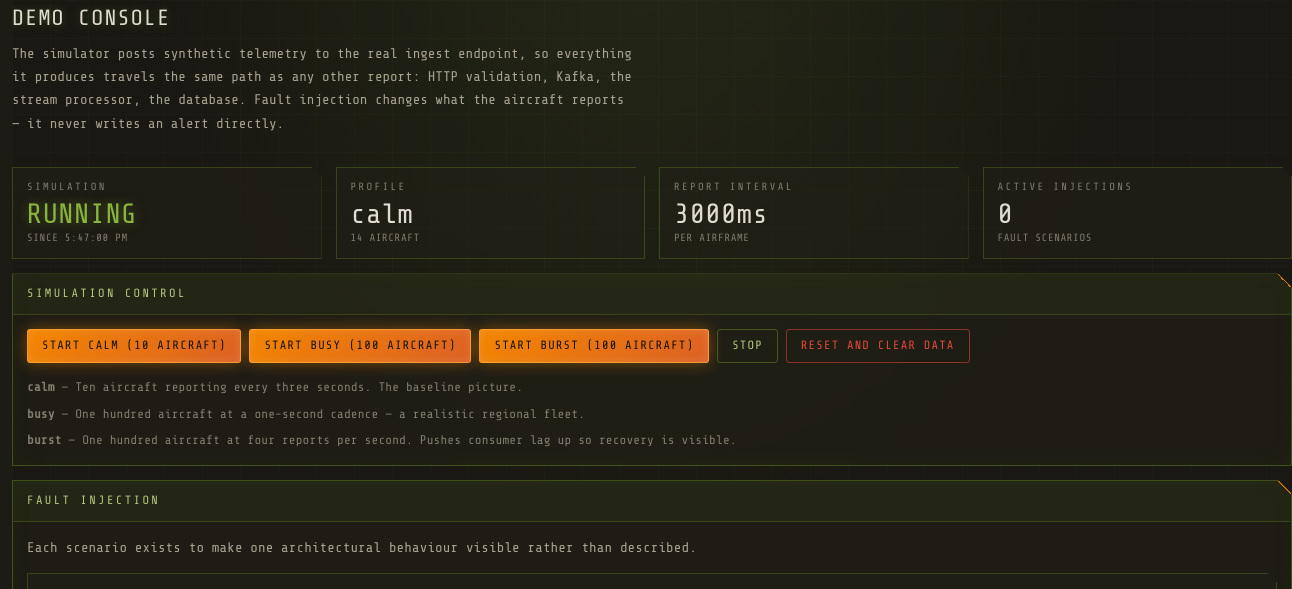
with a live API › surfaces a failure instead of reporting success
The width and height of the screenshot is (1292, 589).
Click the button "Stop" at [748, 346], box [717,329,778,363]
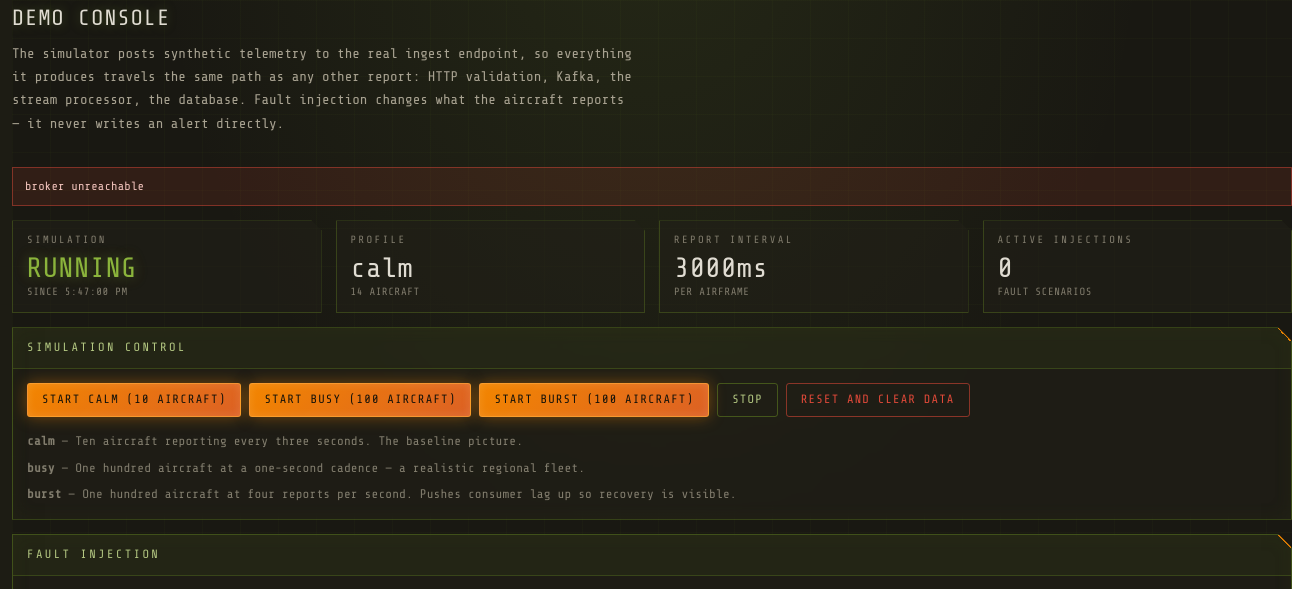
Check: the text "broker unreachable" is shown, box [12,167,1291,206]
